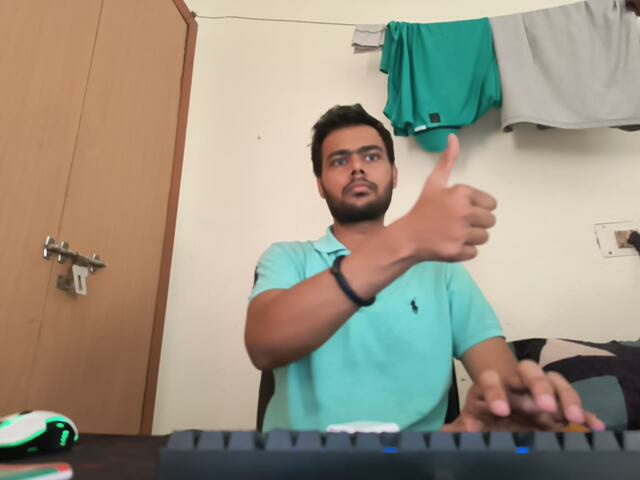ThumbsUp: (413, 132, 498, 265)
